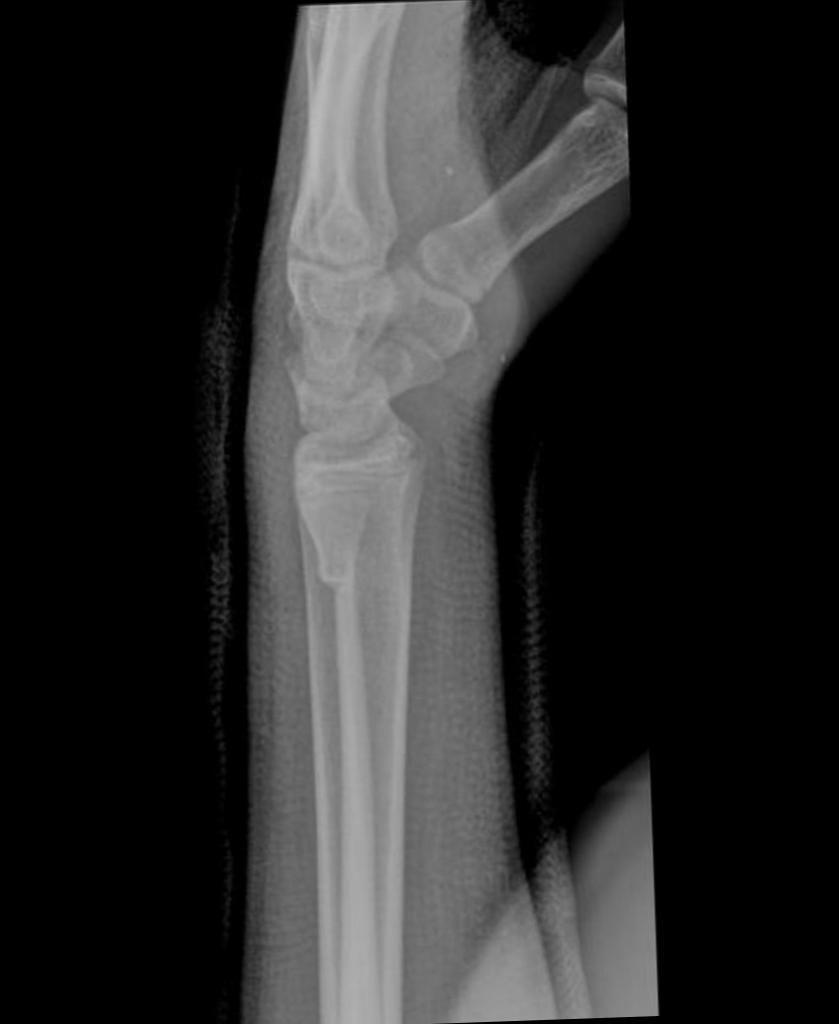line: (312, 562, 357, 601)
